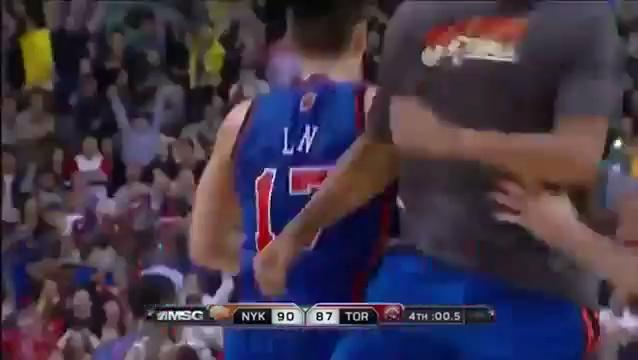Person: (187, 0, 379, 360)
